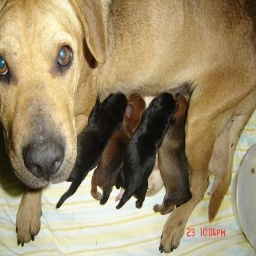dog: (0, 0, 256, 252)
